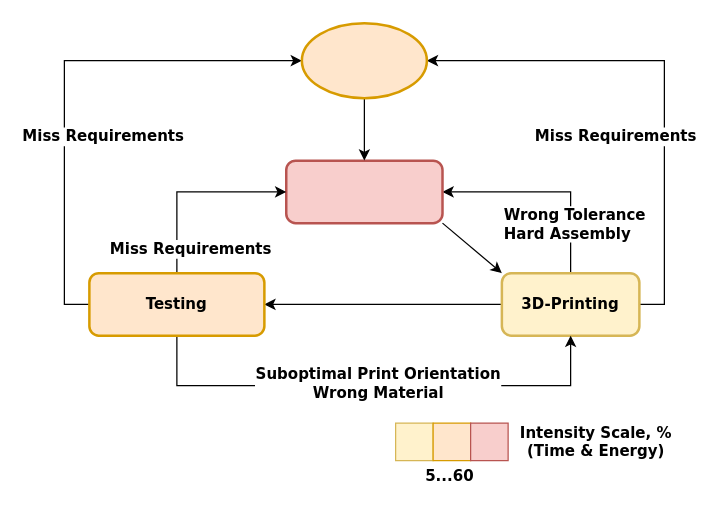
This 718x516 diagram has some shape labels left out. Each missing label, with the box of its shape:
3D-Modelling with CAD: (284, 159, 443, 224)
Select Design: (300, 21, 428, 99)
